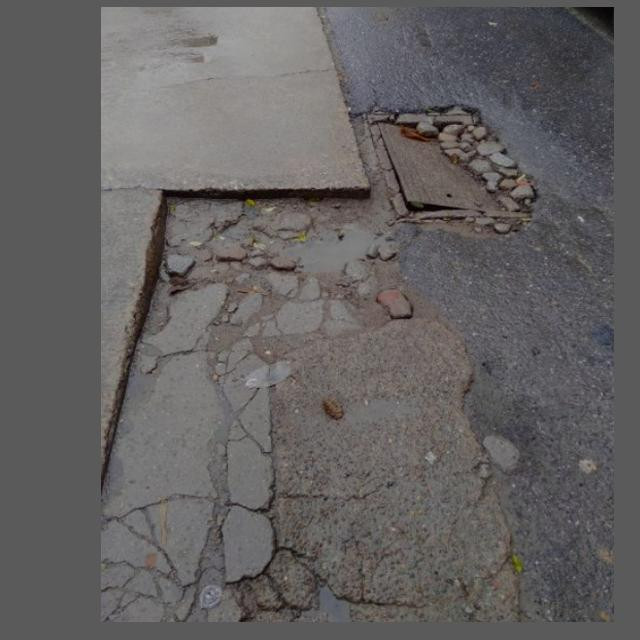uncovered: (364, 112, 532, 224)
